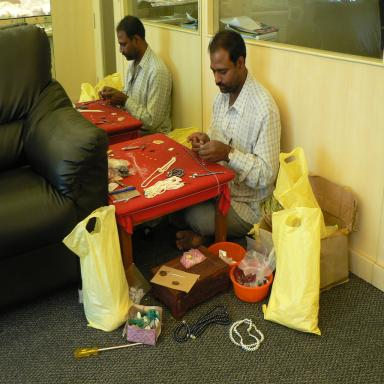plasticbag: (60, 203, 136, 332), (259, 205, 321, 334), (271, 146, 340, 238)
